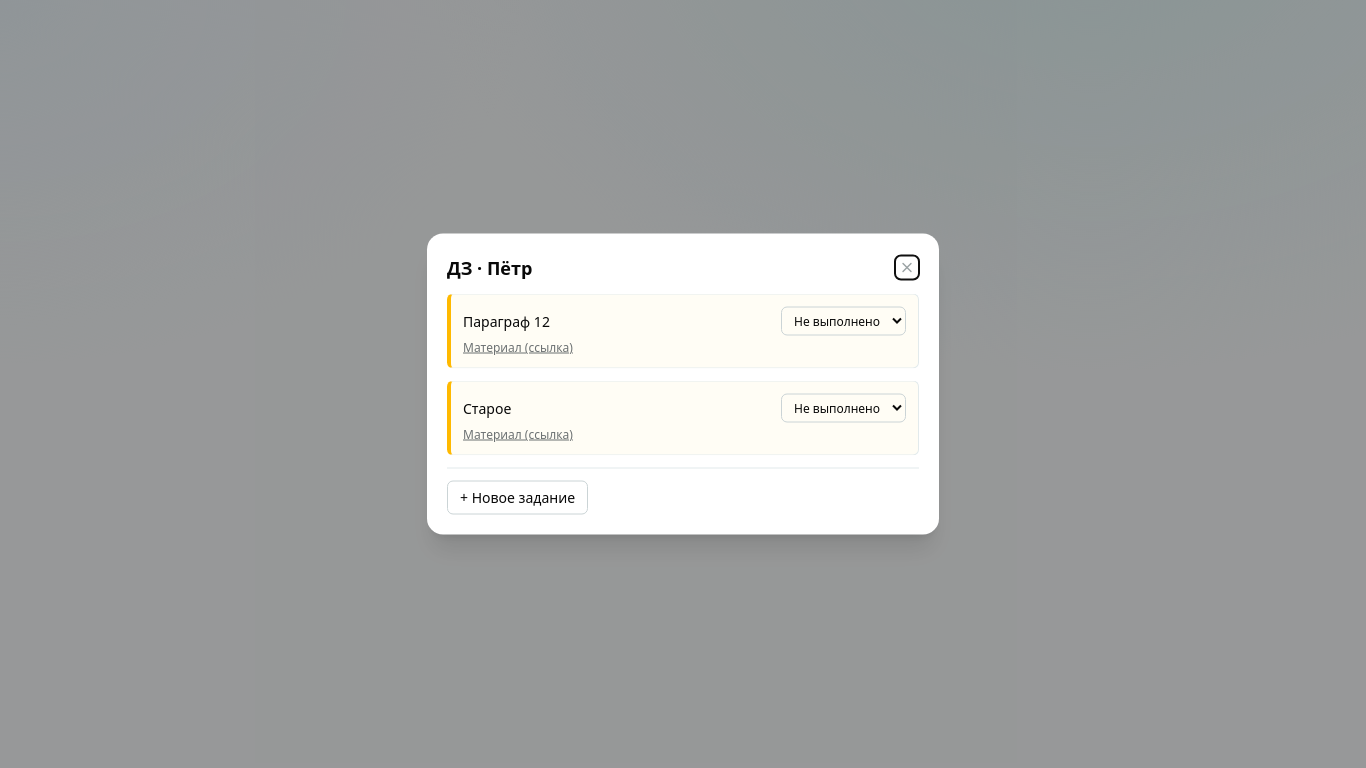
StudentHomeworkModal › новое задание берёт название и способ сдачи из последнего, но не материал
Step 1. Click the button "+ Новое задание" → (518, 498), box [447, 480, 588, 514]
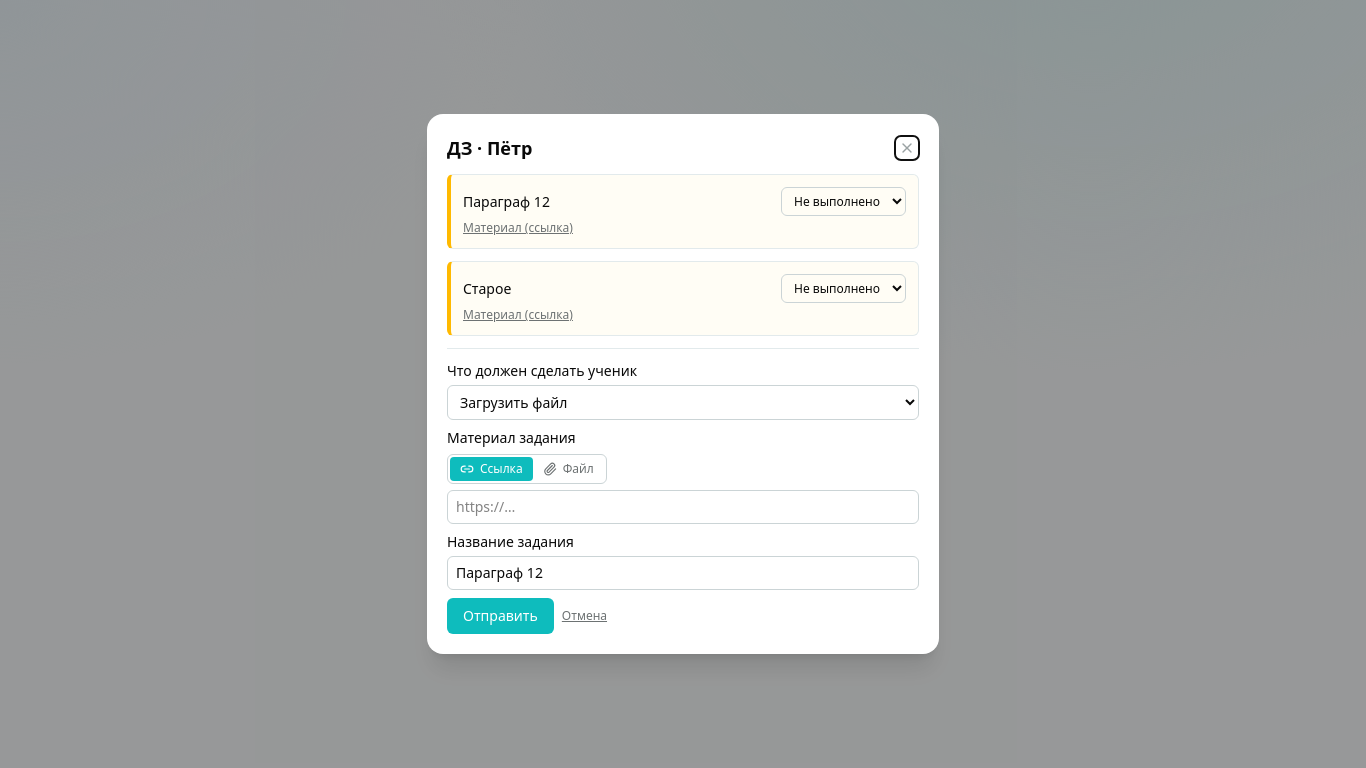
Now the field labelled "Название задания" holds "Параграф 12", box [447, 556, 919, 590]
Now the dropdown labelled "Что должен сделать ученик" shows "Загрузить файл", box [447, 385, 919, 420]
Now the field named "Ссылка на материал" is empty, box [447, 490, 919, 524]
